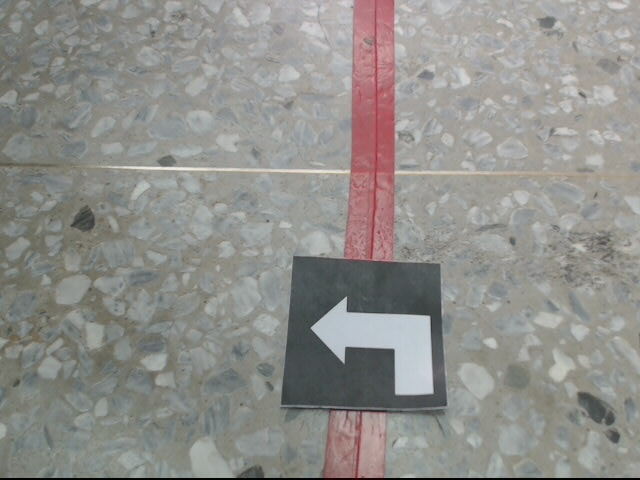left: (281, 255, 456, 412)
